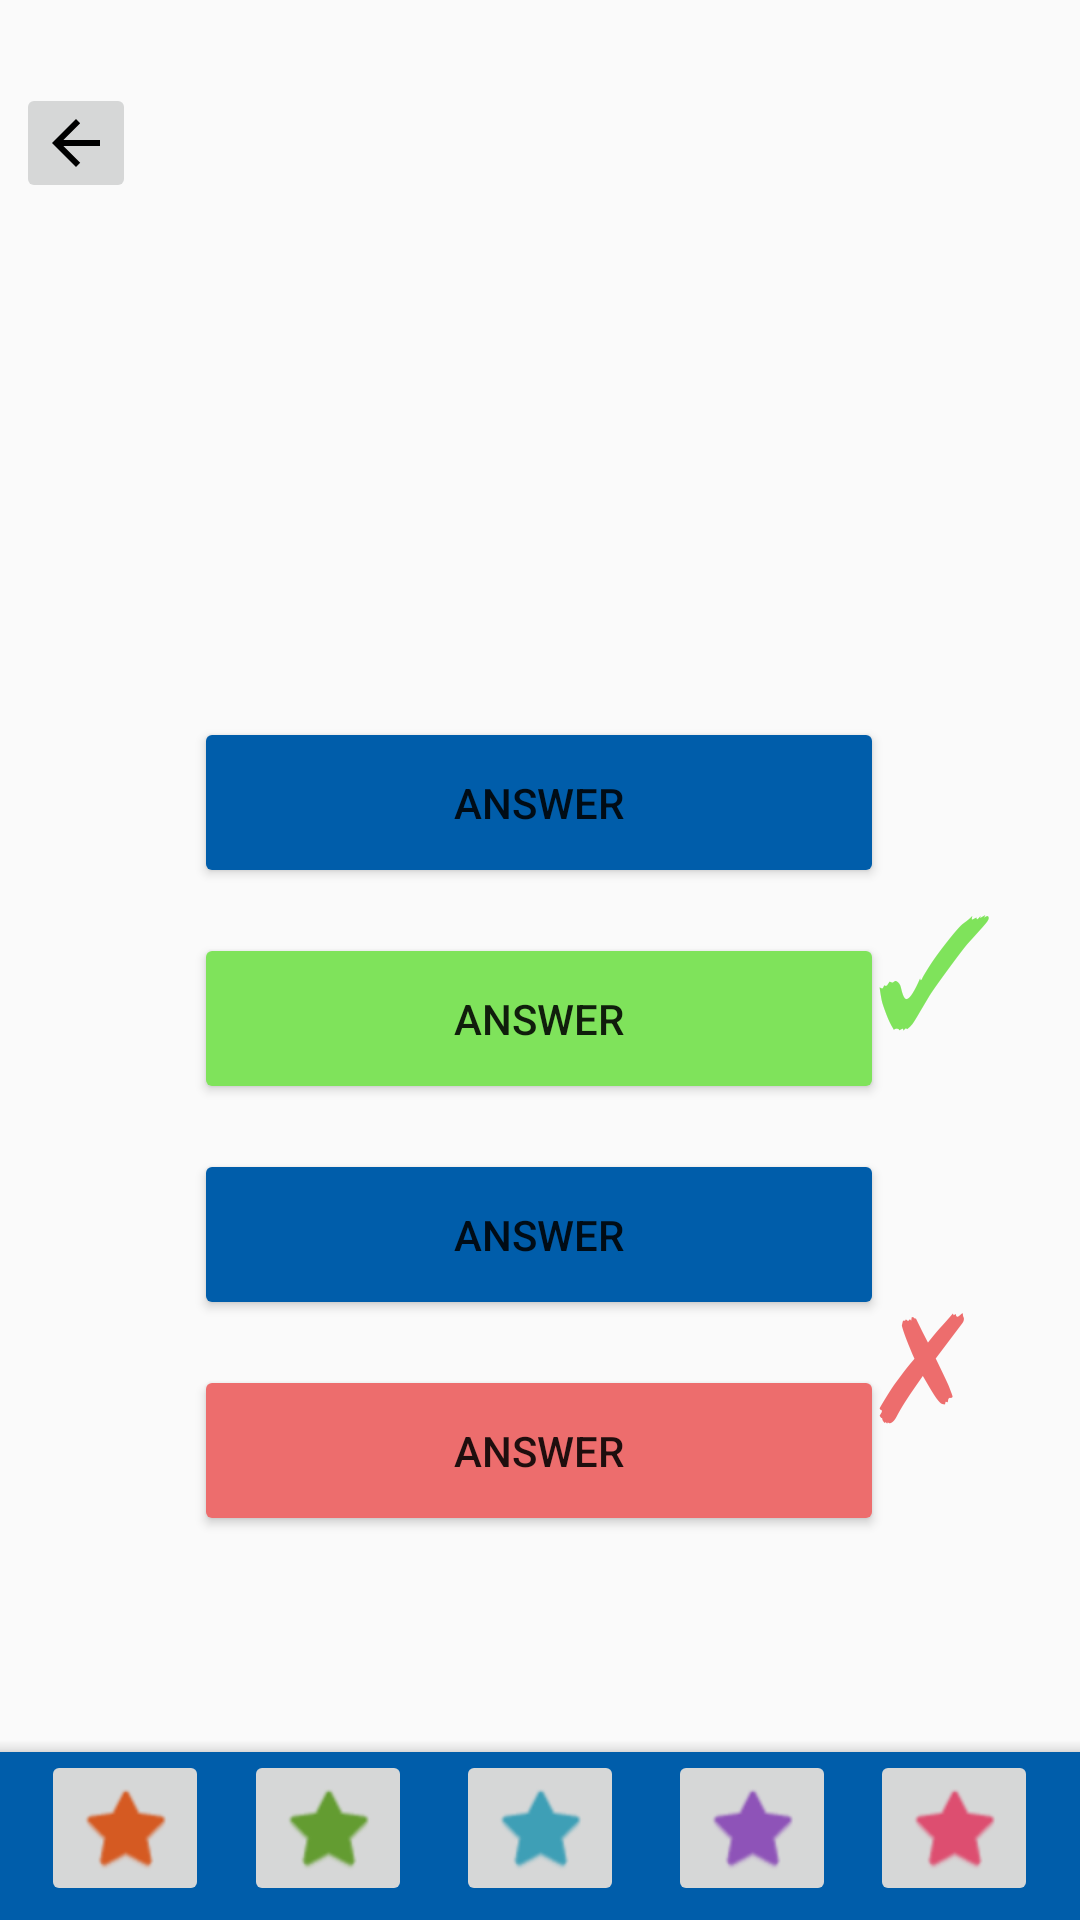

Locate icon controls on the screen. Image size 1080×1920, boxes as (x1, y1, x2, y2).
star on: (53, 1768, 197, 1888), (256, 1768, 400, 1888), (468, 1768, 612, 1888), (680, 1768, 824, 1888), (882, 1768, 1026, 1888)
